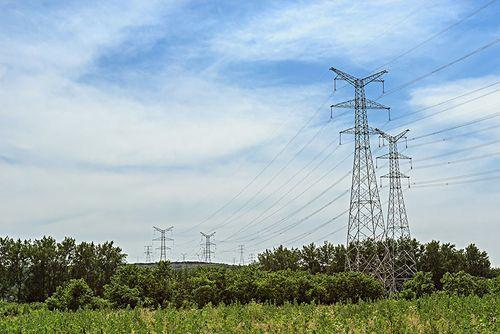power_tower: (321, 57, 393, 304), (375, 123, 429, 287), (147, 219, 169, 269), (197, 229, 221, 264)
